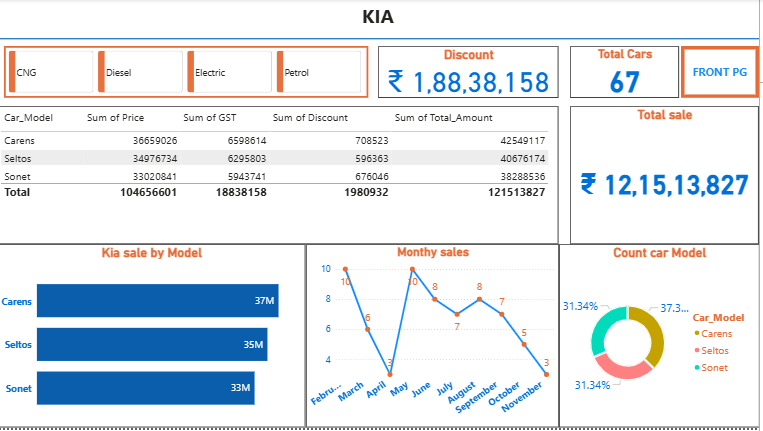

Layout of this report page (visuals, bound fields, positions):
{"tool":"powerbi","page":{"name":"Kia","canvas":[1280,720],"ordinal":5},"visuals":[{"type":"textbox","box":[0,0,1280,65],"z":0},{"type":"barChart","title":"Kia sale by Model","fields":{"Category":["car_sales_2025_india_updated.Car_Model"],"Y":["Sum(car_sales_2025_india_updated.Price)"]},"box":[0,411.7,518.3,308.3],"z":1000},{"type":"donutChart","title":"Count car Model","fields":{"Category":["car_sales_2025_india_updated.Car_Model"],"Y":["CountNonNull(car_sales_2025_india_updated.Price)"]},"box":[943.3,411.7,336.7,308.3],"z":2000},{"type":"lineChart","title":"Monthy sales","fields":{"Category":["car_sales_2025_india_updated.Delivery_Date.Variation.Date Hierarchy.Month"],"Y":["Count(car_sales_2025_india_updated.Price)"]},"box":[518.3,411.7,425,308.3],"z":3000},{"type":"tableEx","fields":{"Values":["car_sales_2025_india_updated.Car_Model","Sum(car_sales_2025_india_updated.Price)","Sum(car_sales_2025_india_updated.GST)","Sum(car_sales_2025_india_updated.Discount)","Sum(car_sales_2025_india_updated.Total_Amount)"]},"box":[0,180,943.3,231.7],"z":4000},{"type":"shape","box":[0,10,1280,113.3],"z":5000},{"type":"card","title":"Total Cars","fields":{"Values":["CountNonNull(car_sales_2025_india_updated.Car_Model)"]},"box":[962.5,79,183.1,87.3],"z":6000},{"type":"card","title":"Discount","fields":{"Values":["Sum(car_sales_2025_india_updated.GST)"]},"box":[640,78.3,303.3,86.7],"z":7000},{"type":"card","title":"Total sale","fields":{"Values":["Sum(car_sales_2025_india_updated.Total_Amount)"]},"box":[962.5,179.7,317.5,231.8],"z":9000},{"type":"advancedSlicerVisual","fields":{"Values":["car_sales_2025_india_updated.Fuel_Type"]},"box":[11.7,78.3,611.7,86.7],"z":10000},{"type":"actionButton","box":[1149,79,131,87.3],"z":10002}]}

Visuals, with their boxes in screenshot pixels (x1, y1, x2, y2), scaled from the page's 1280x720 canvas onto the 763x431 screenshot:
textbox: region(0, 0, 762, 39)
"Kia sale by Model" barChart: region(0, 246, 309, 430)
"Count car Model" donutChart: region(562, 246, 762, 430)
"Monthy sales" lineChart: region(309, 246, 562, 430)
tableEx - car_sales_2025_india_updated.Car_Model x Sum(car_sales_2025_india_updated.Price): region(0, 108, 562, 246)
shape: region(0, 6, 762, 74)
"Total Cars" card: region(574, 47, 683, 100)
"Discount" card: region(382, 47, 562, 99)
"Total sale" card: region(574, 108, 762, 246)
advancedSlicerVisual - car_sales_2025_india_updated.Fuel_Type: region(7, 47, 372, 99)
actionButton: region(685, 47, 762, 100)
